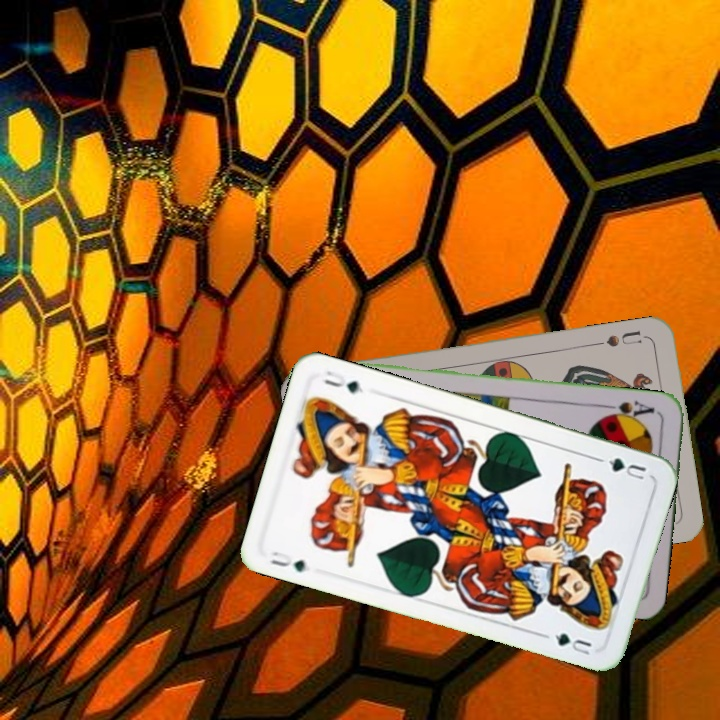GU: (594, 453, 649, 484), (265, 547, 308, 575)
SA: (600, 396, 660, 424)
SU: (591, 326, 644, 350)
